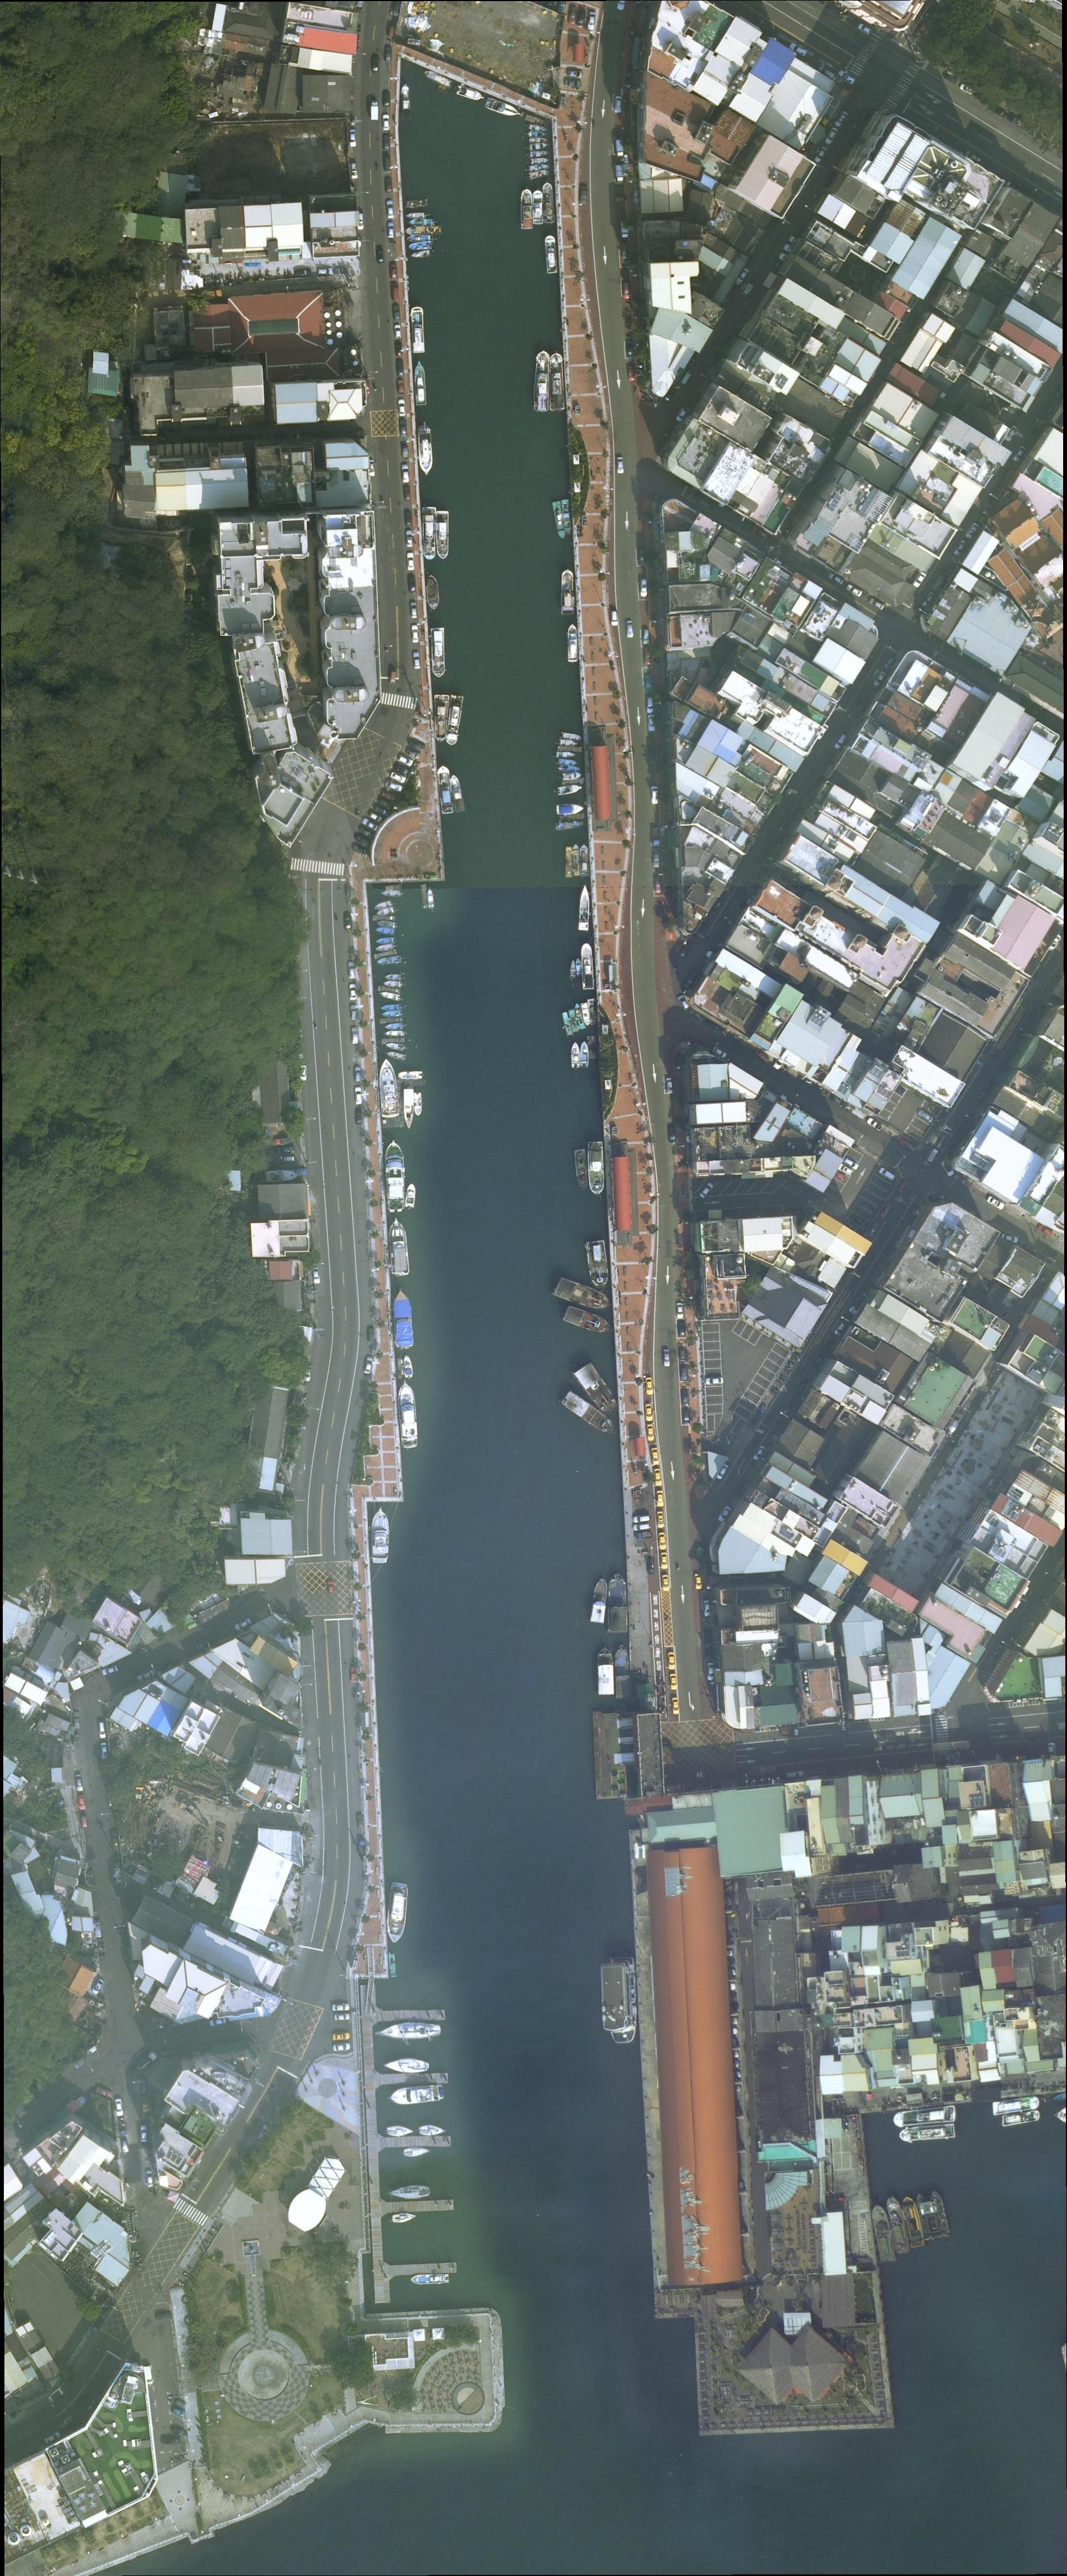harbor: (389, 2262, 458, 2277), (387, 2200, 455, 2213), (382, 2073, 448, 2086), (386, 2136, 452, 2149), (383, 2010, 446, 2022)
ship: (600, 1956, 640, 2044), (559, 1389, 620, 1438), (573, 1362, 623, 1419), (552, 1275, 612, 1314), (562, 1304, 614, 1338), (915, 2191, 950, 2241), (891, 2104, 958, 2129), (884, 2194, 910, 2256), (870, 2204, 897, 2264), (384, 1140, 405, 1213), (391, 1289, 415, 1350), (385, 1882, 409, 1944), (397, 1383, 419, 1449), (376, 1059, 399, 1119), (900, 2196, 926, 2248), (585, 1240, 611, 1290), (389, 2084, 445, 2107), (375, 2022, 442, 2041), (387, 1219, 410, 1277), (898, 2123, 956, 2143), (608, 1574, 627, 1633), (533, 350, 551, 412), (371, 1509, 390, 1564), (586, 1142, 606, 1195), (992, 2096, 1041, 2116), (445, 695, 464, 748), (484, 95, 522, 121), (589, 1577, 610, 1625), (615, 1645, 631, 1701), (550, 353, 566, 411), (596, 1647, 614, 1695), (437, 765, 454, 815), (417, 426, 434, 475), (384, 2057, 431, 2075), (431, 628, 446, 679), (1000, 2109, 1042, 2128), (573, 1148, 591, 1191), (422, 68, 455, 91), (422, 507, 436, 561), (387, 2184, 431, 2201), (435, 695, 450, 742), (256, 1170, 302, 1184), (577, 885, 591, 931), (581, 943, 595, 990), (455, 83, 485, 104), (437, 511, 450, 560), (562, 569, 574, 616), (413, 362, 426, 405), (544, 236, 558, 274), (552, 501, 567, 539), (450, 774, 464, 812), (426, 574, 440, 611), (542, 182, 555, 224), (410, 2273, 450, 2286), (403, 1088, 415, 1130), (521, 189, 532, 230), (404, 226, 442, 237), (567, 625, 578, 663), (561, 500, 573, 535), (404, 1183, 419, 1208), (532, 191, 542, 225), (400, 84, 411, 118), (556, 803, 584, 816), (387, 2125, 413, 2138), (419, 2125, 446, 2137), (567, 1007, 579, 1033), (580, 844, 590, 877), (557, 784, 581, 796), (377, 955, 403, 967), (392, 2213, 418, 2224), (556, 821, 583, 832), (574, 1002, 584, 1030), (580, 1002, 591, 1027), (572, 845, 580, 877), (403, 1355, 414, 1378), (387, 1050, 408, 1062), (403, 2149, 430, 2158), (580, 1040, 589, 1069), (409, 242, 434, 252), (571, 1042, 580, 1068), (380, 991, 401, 1002), (398, 1071, 423, 1080), (377, 919, 397, 930), (559, 732, 582, 742), (374, 900, 393, 912), (562, 771, 582, 782), (385, 1041, 406, 1052), (409, 219, 437, 226), (376, 926, 395, 937), (426, 887, 436, 909), (415, 1093, 423, 1118), (566, 847, 573, 878), (558, 739, 578, 749), (558, 759, 578, 768), (528, 124, 548, 133), (376, 908, 395, 917), (407, 236, 431, 244), (379, 888, 400, 897), (529, 171, 549, 179), (528, 150, 548, 158), (384, 980, 403, 988), (411, 251, 431, 260), (376, 945, 394, 953), (569, 960, 577, 980), (385, 973, 403, 981), (529, 165, 550, 172), (529, 144, 547, 151), (383, 1011, 402, 1018), (385, 1023, 404, 1030), (556, 752, 575, 759), (405, 212, 426, 219), (385, 1030, 405, 1037), (529, 131, 547, 138), (376, 938, 395, 945), (530, 158, 549, 165), (382, 1005, 402, 1011), (530, 138, 548, 144), (576, 958, 582, 976)
